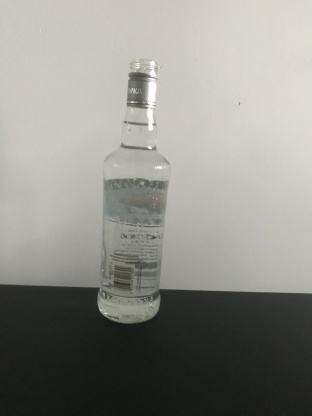nakretka: (125, 57, 159, 111)
